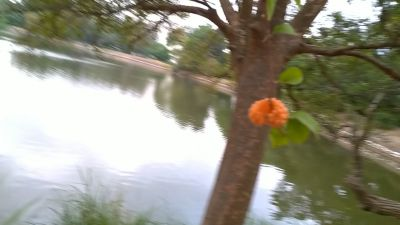eggs: (249, 97, 290, 129)
